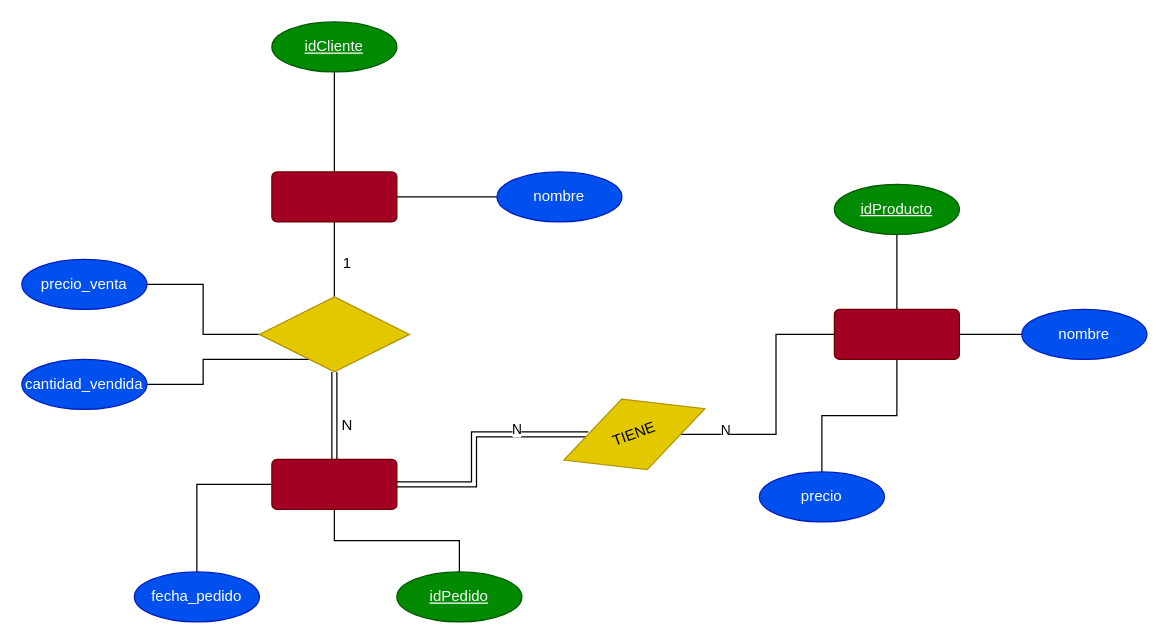
Some shapes in this 1169 by 644 pixel diagram are drawn without their labels. Each missing label, with the centre of its shape:
"CLIENTE" goes at (334,196).
"DETALLE_PEDIDO" goes at (333,334).
"PEDIDO" goes at (334,483).
"PRODUCTO" goes at (896,333).
